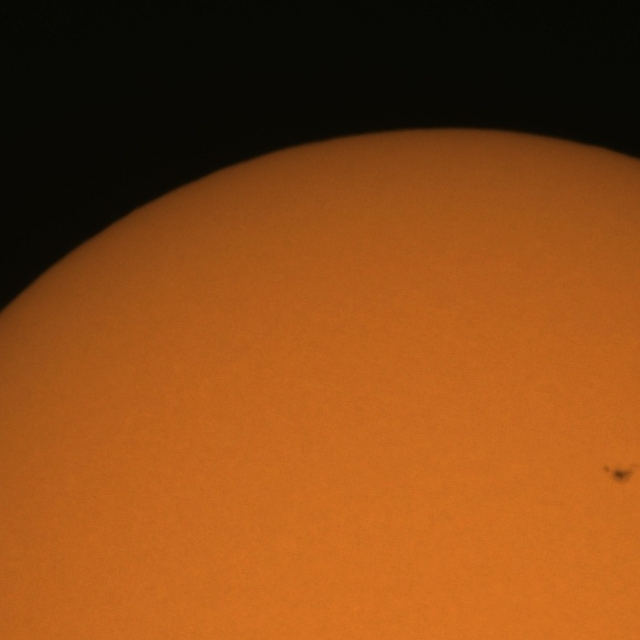sunspot: (601, 463, 635, 486)
